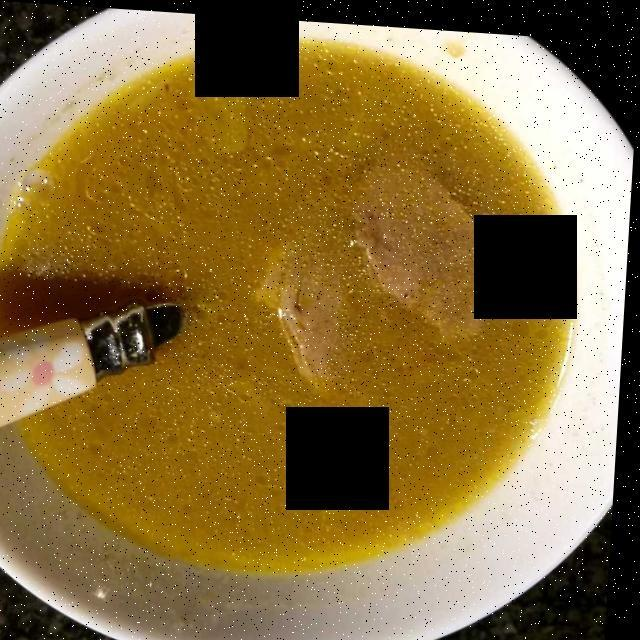bouillon: (14, 41, 575, 562)
